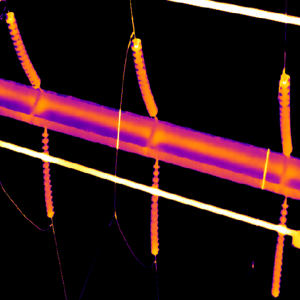insulator: (3, 8, 41, 88), (127, 37, 160, 118), (269, 201, 289, 297), (39, 128, 54, 218), (277, 71, 293, 155), (148, 164, 161, 256)
